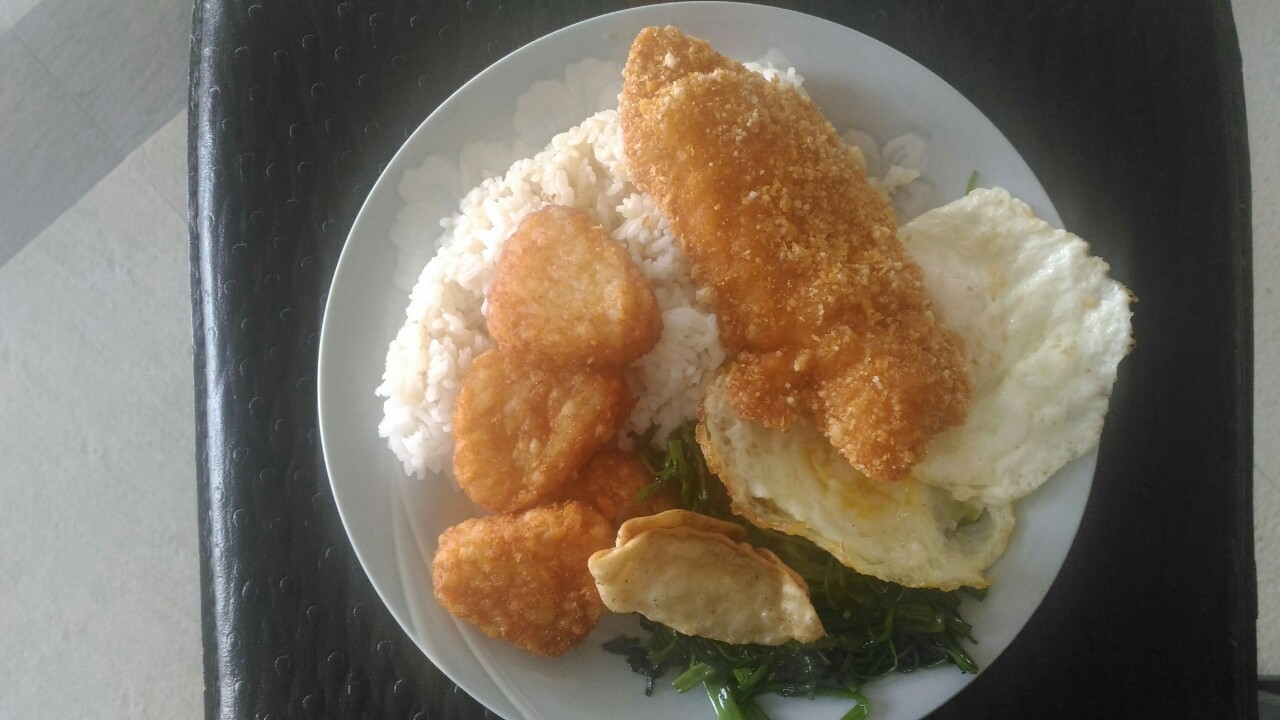fried_chicken: (627, 33, 970, 480)
fried_dumplings: (587, 505, 821, 650)
fried_eggs: (722, 189, 1131, 572)
rice: (446, 129, 641, 228), (824, 579, 969, 690)
triangle_hash_brown: (437, 206, 649, 651)
